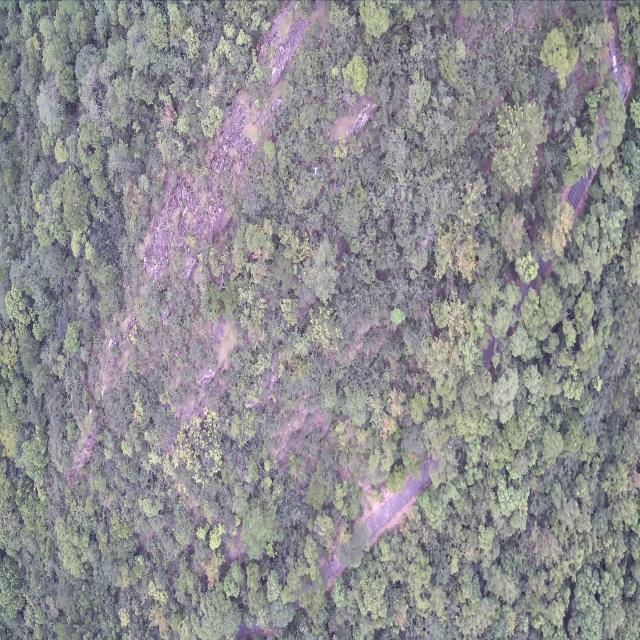drone: (312, 167, 319, 176)
